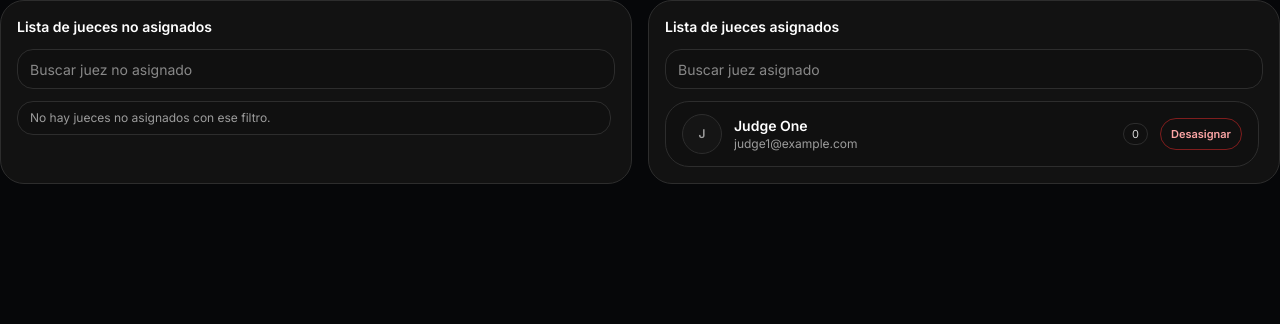
Test: JudgeEventAssignmentBoard › renders hierarchical tree and keeps branches collapsed by default
This screenshot has width=1280, height=324.
Click the text "Judge One".
click(771, 126)  # box left=734, top=117, right=808, bottom=134
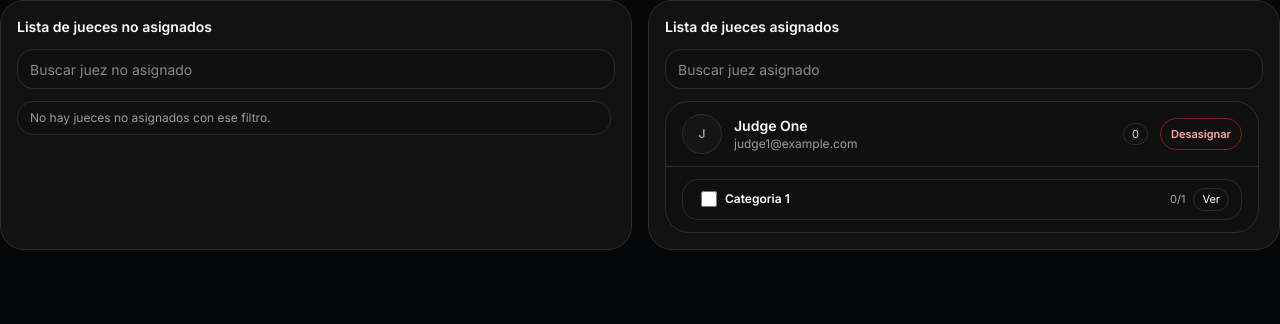
Expected: the text "Subcategoria 1" is not shown
Expected: the text "Categoria 1" is shown, left=725, top=191, right=790, bottom=206
Click the button "Ver".
click(1211, 199)  # box left=1193, top=188, right=1229, bottom=210
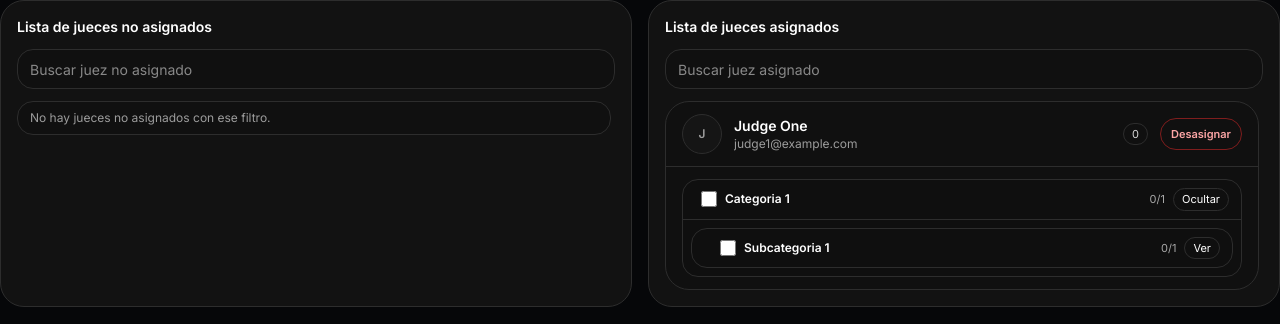
Expected: the text "Subcategoria 1" is shown, left=744, top=240, right=830, bottom=255
